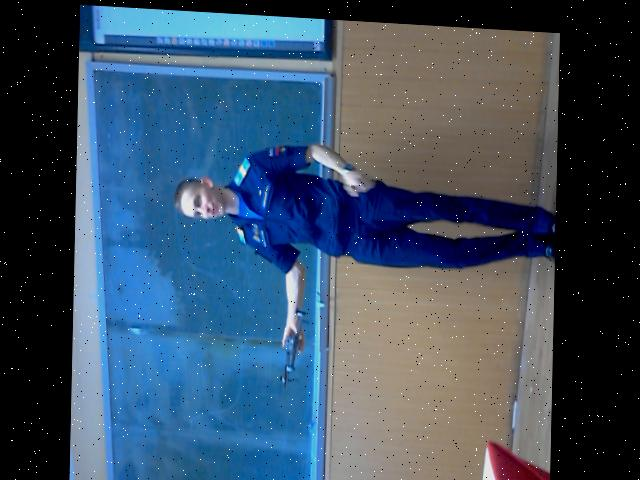drone: (268, 290, 316, 393)
